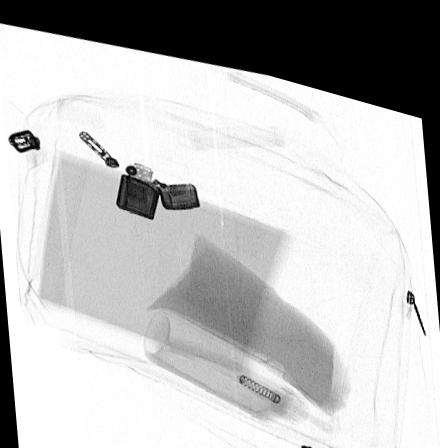Lighter: (115, 154, 200, 212)
